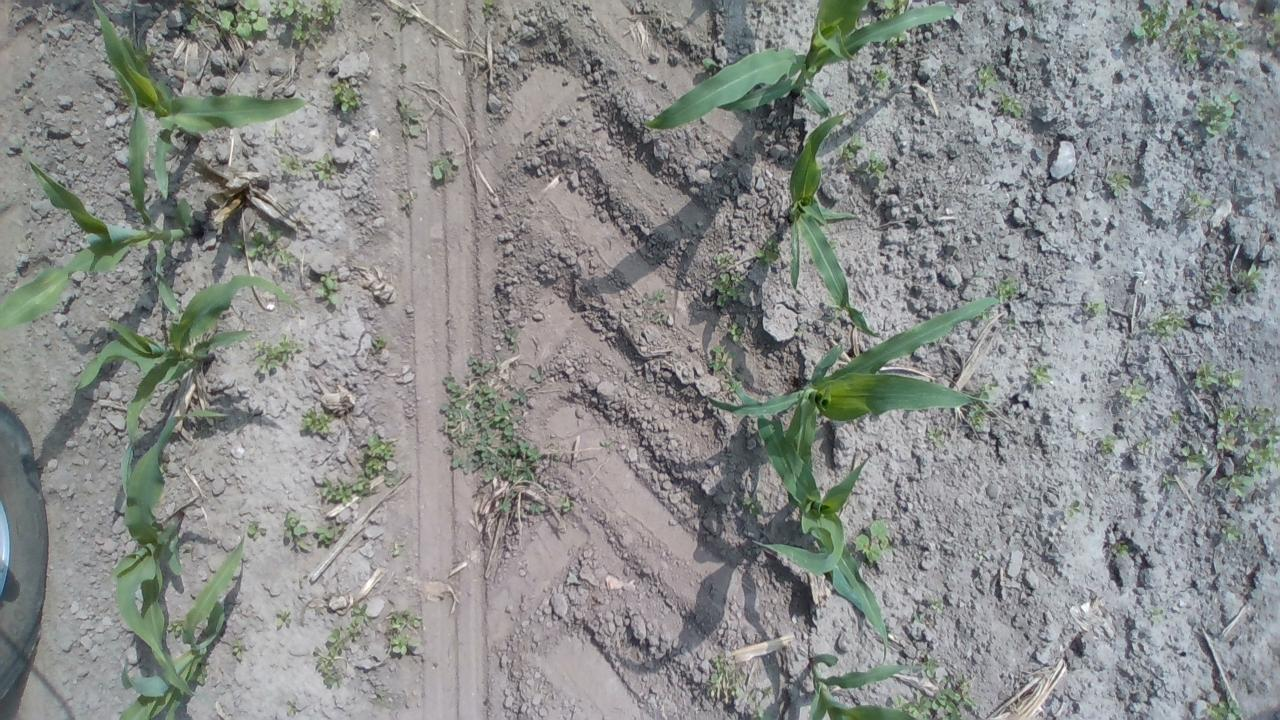Maize: (702, 288, 1004, 518), (3, 62, 205, 352), (75, 270, 302, 511), (722, 356, 891, 654), (85, 1, 306, 202), (641, 0, 964, 130), (108, 396, 208, 700), (782, 105, 891, 346), (121, 535, 250, 720), (801, 650, 921, 720)
Weeds: (437, 324, 577, 522), (176, 1, 346, 46), (1212, 401, 1280, 498), (1170, 1, 1244, 70), (698, 653, 769, 720), (890, 677, 980, 720), (226, 220, 300, 272), (702, 250, 754, 310), (1192, 87, 1241, 141), (311, 624, 351, 689), (390, 88, 431, 142), (314, 474, 377, 509), (358, 431, 398, 484), (1188, 361, 1252, 394), (386, 609, 426, 661), (253, 338, 306, 377), (872, 0, 912, 47), (706, 347, 744, 394), (856, 518, 892, 565), (1142, 310, 1192, 343), (280, 510, 314, 557), (1131, 0, 1168, 42), (636, 286, 672, 328), (965, 381, 993, 430), (296, 403, 334, 439), (272, 148, 314, 180), (1231, 263, 1265, 302), (1198, 690, 1242, 720), (330, 77, 364, 114), (1022, 357, 1056, 392), (1200, 279, 1234, 314), (870, 64, 905, 98), (911, 592, 946, 626), (753, 232, 786, 268), (1102, 168, 1138, 200), (991, 270, 1021, 308), (428, 151, 457, 190), (1174, 441, 1206, 476), (1101, 537, 1137, 566), (730, 487, 759, 522), (1180, 192, 1212, 223), (996, 91, 1028, 122), (1112, 378, 1144, 408), (836, 129, 864, 163), (316, 272, 340, 310), (864, 148, 890, 182), (1262, 7, 1280, 52), (313, 524, 344, 550), (316, 152, 340, 185), (1220, 520, 1248, 548), (974, 62, 995, 96), (1154, 468, 1180, 495), (268, 605, 296, 630), (1091, 432, 1117, 457), (188, 662, 212, 688), (725, 318, 747, 346), (228, 634, 248, 663), (244, 516, 268, 540), (351, 602, 371, 630), (398, 188, 419, 214), (164, 618, 188, 640), (1146, 606, 1172, 626), (918, 659, 942, 680), (1060, 498, 1082, 520), (1082, 299, 1104, 320), (1165, 407, 1185, 430), (478, 0, 498, 22), (929, 422, 951, 442), (1137, 434, 1154, 459), (370, 335, 388, 354)
